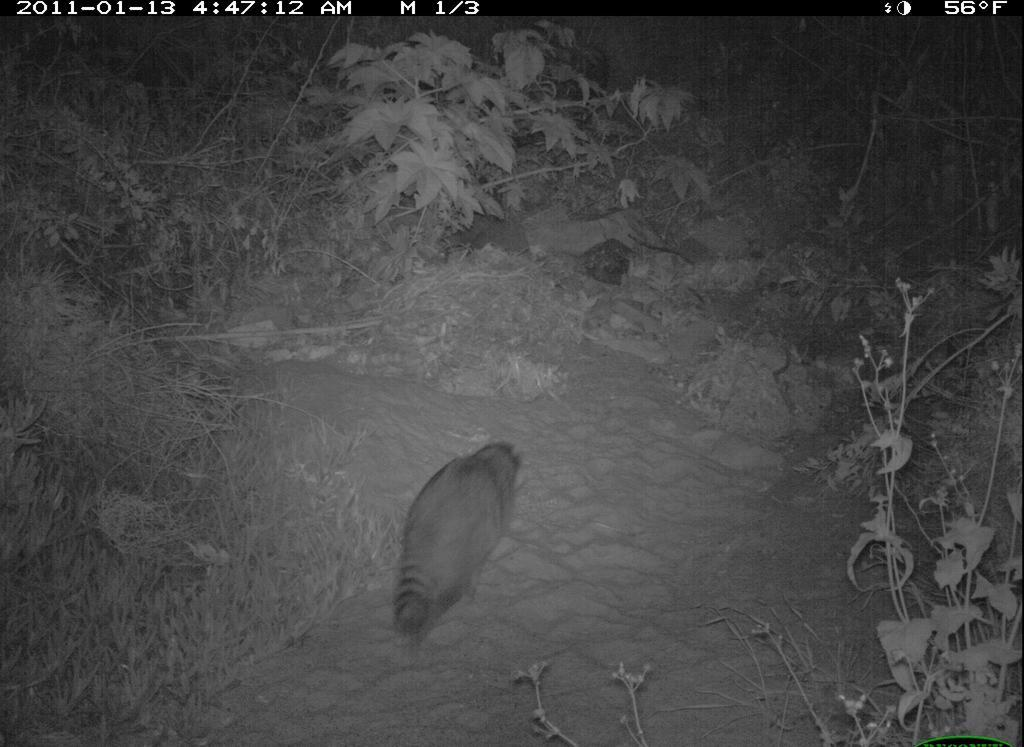raccoon: (379, 433, 561, 670)
